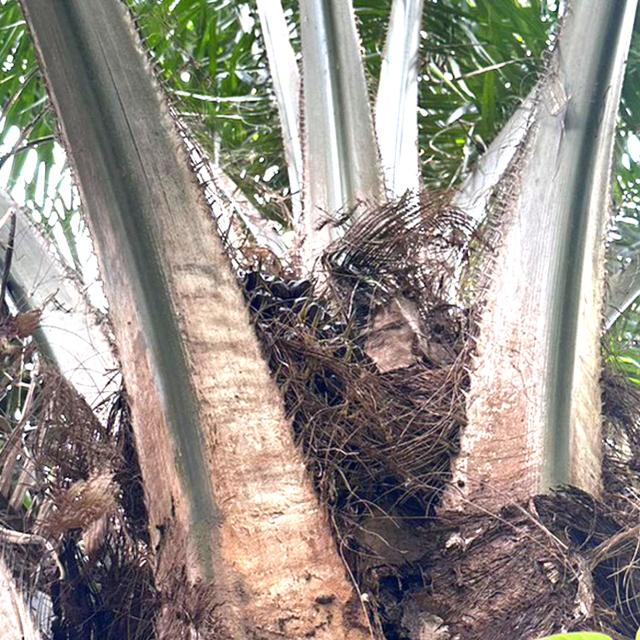almost: (219, 252, 382, 458)
